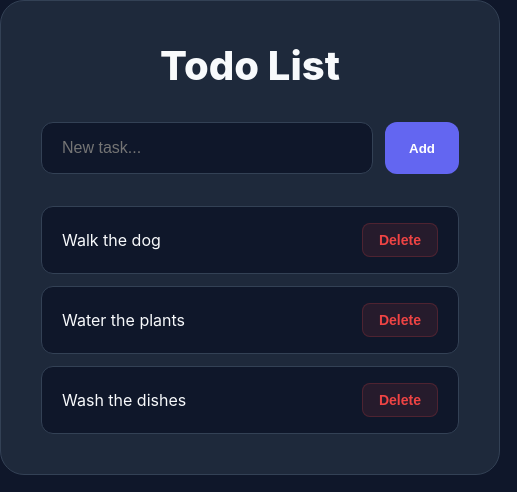
Test: TodoList Component › should delete a task
Step 1. Click the button "Delete" in the row of "Walk the dog" → x=400, y=240, box [362,223,438,257]
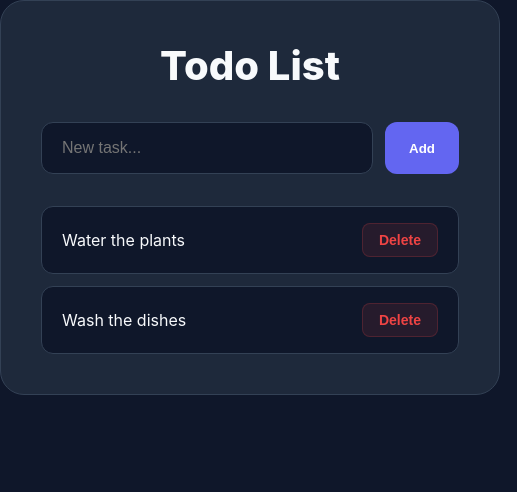
expect the text "Walk the dog" is gone: met
